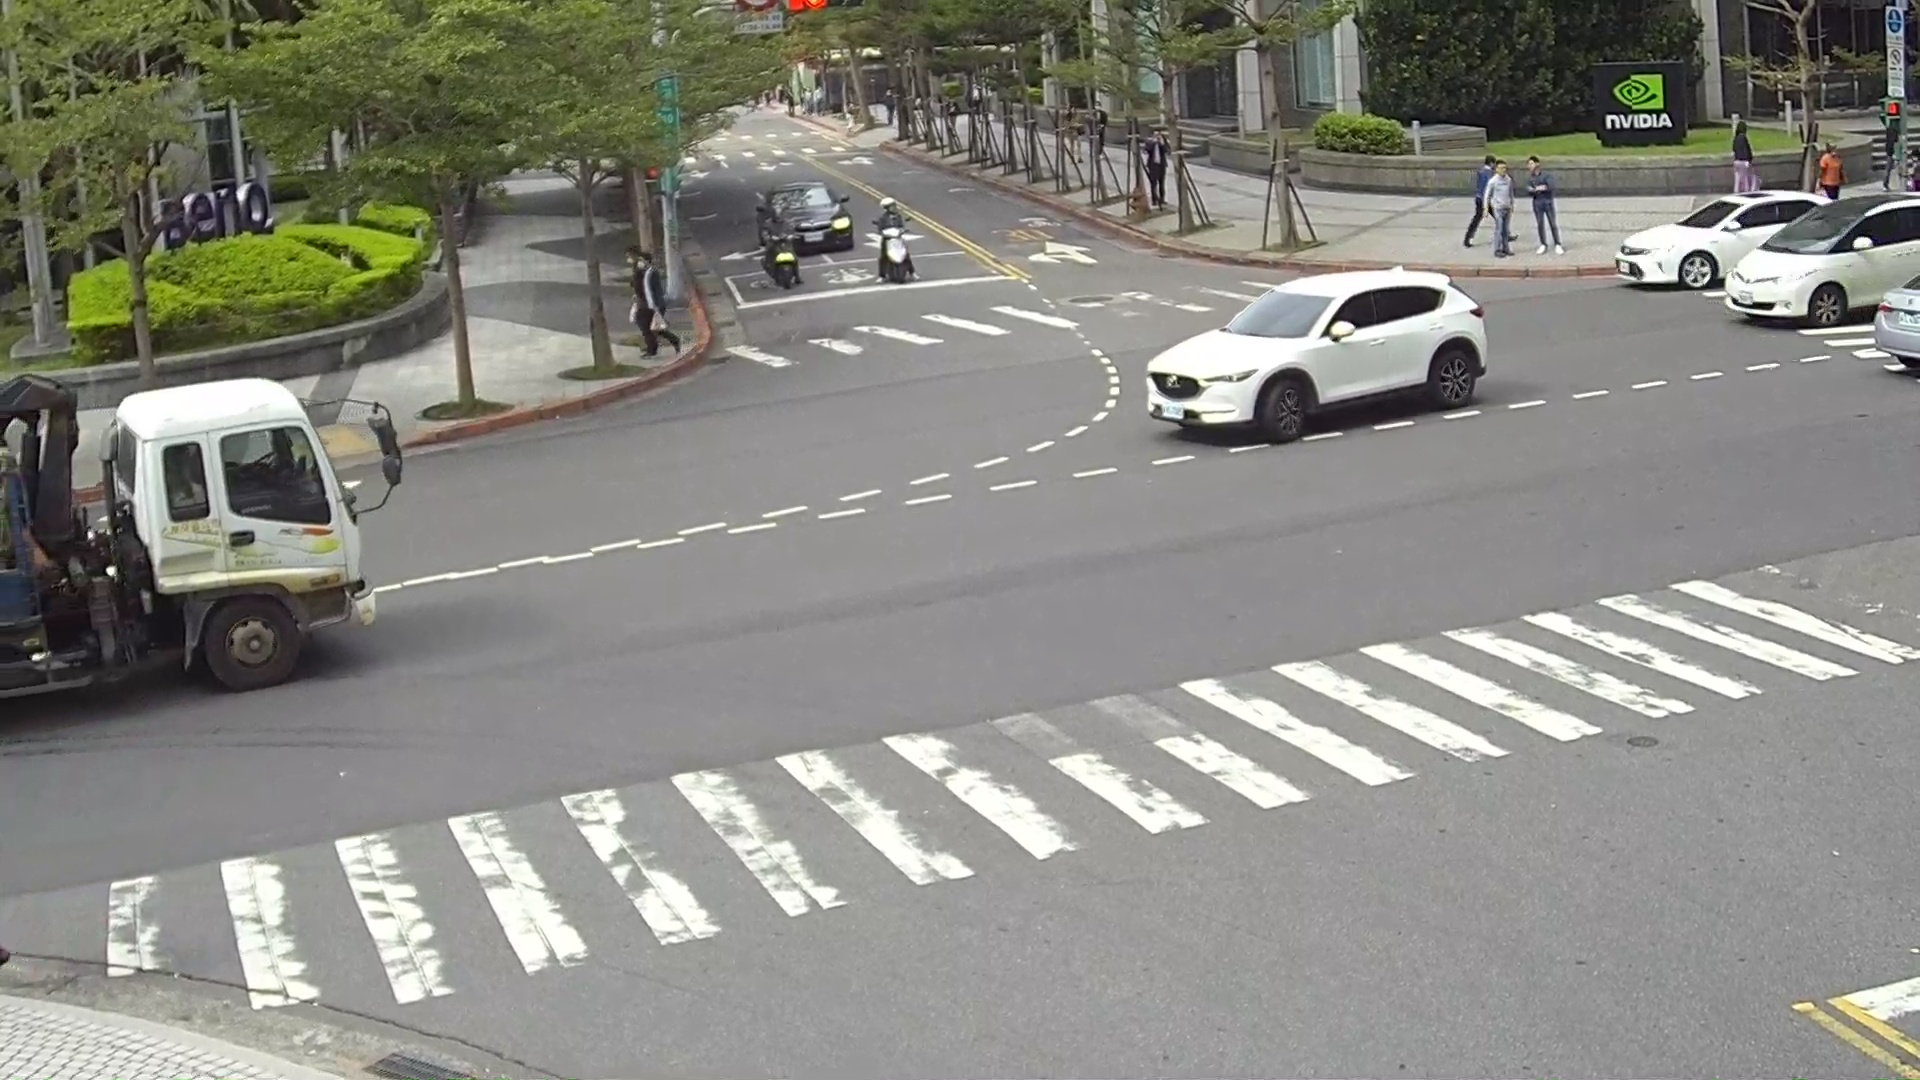bike: (874, 234, 918, 284), (761, 236, 802, 289)
pedestrian: (1522, 154, 1563, 254), (635, 250, 668, 350), (1484, 161, 1518, 255), (1462, 152, 1496, 248), (1136, 129, 1177, 197), (1730, 115, 1758, 193), (762, 202, 791, 263), (1818, 147, 1844, 200), (874, 198, 906, 239)
vehicle: (1, 374, 394, 735), (1152, 266, 1484, 442), (1724, 193, 1920, 328), (1613, 190, 1831, 289), (754, 181, 855, 257), (1875, 222, 1920, 378)
